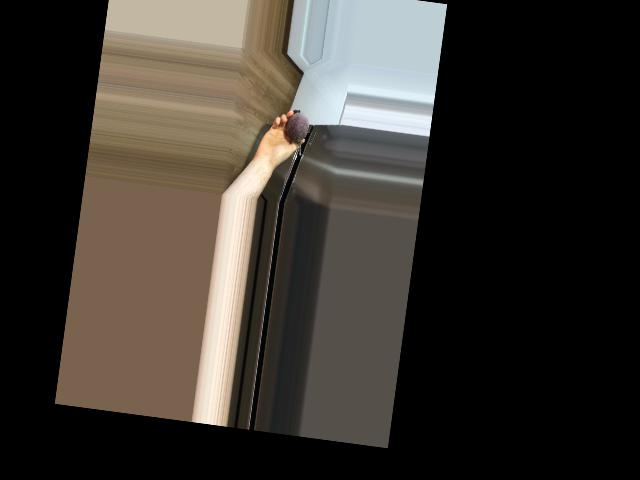beet: (283, 108, 310, 155)
